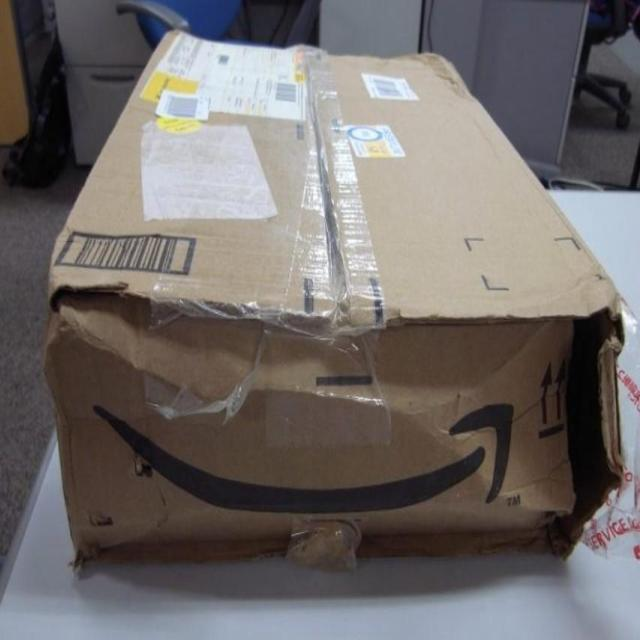box: (148, 150, 513, 459)
opened: (145, 150, 502, 345)
